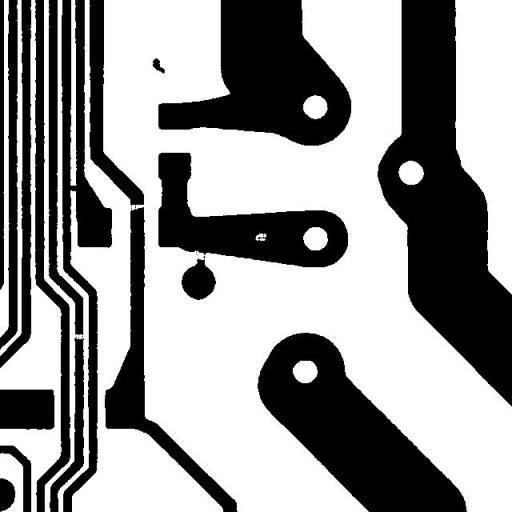copper: (145, 50, 172, 81)
open: (119, 196, 153, 218), (186, 242, 212, 268), (66, 326, 91, 346)
pin-hole: (247, 226, 274, 248)
short: (58, 178, 84, 198)
